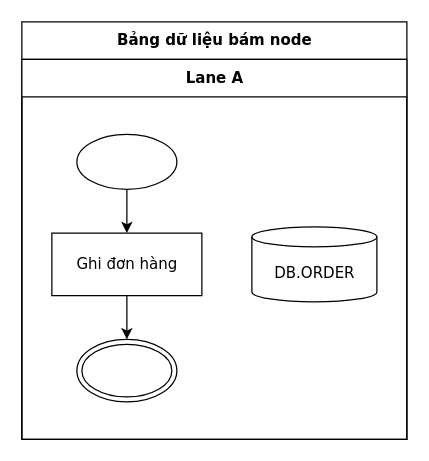
This 429x461 diagram has some shape labels left out. The shapes that lost their labels are listed below. From the top down, each one's centre as x and y in pixels, then its label:
[126,161]: Vào
[126,370]: Xong
